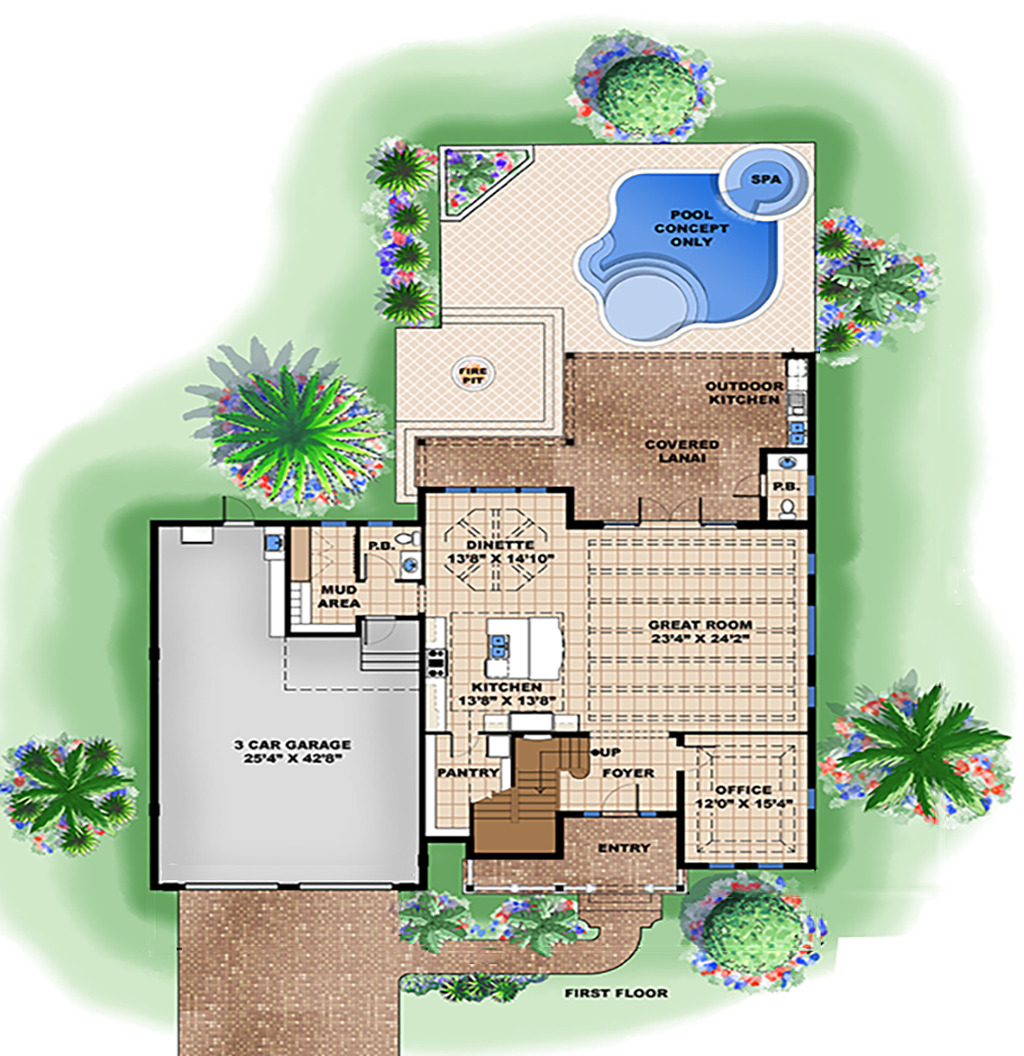door: (218, 488, 259, 523), (595, 784, 641, 812)
large_sink: (768, 492, 797, 522), (387, 531, 420, 550)
stairs: (470, 742, 596, 861)
